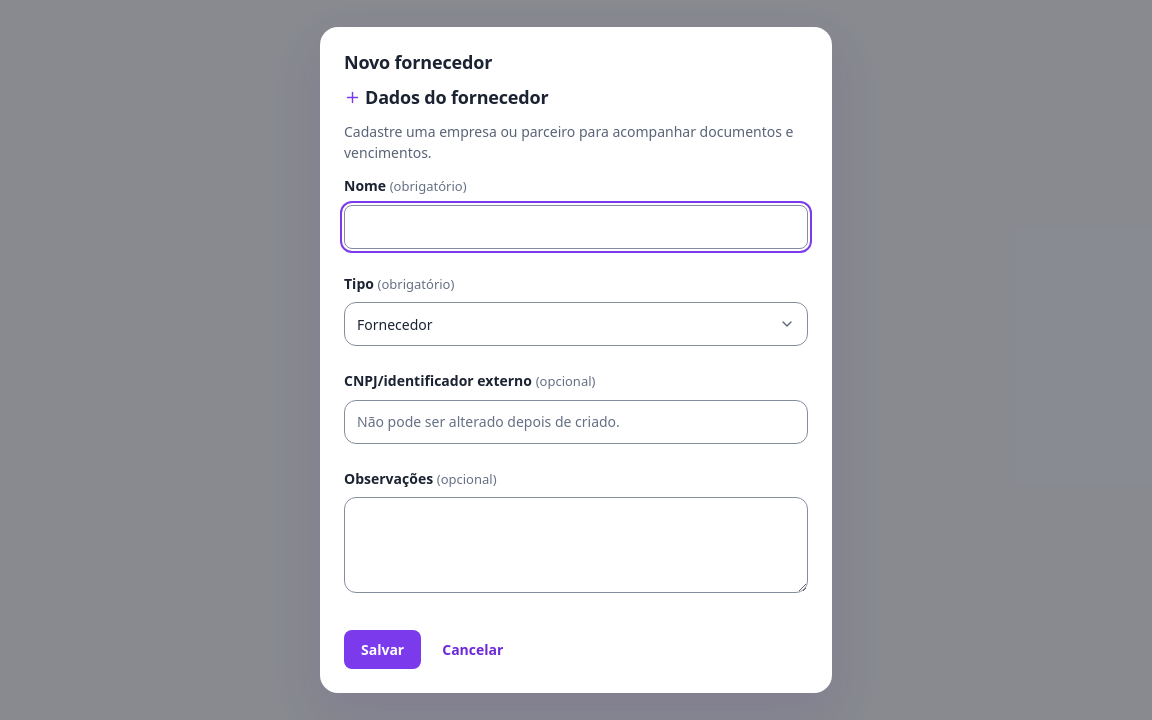
SubjectFormDialog › create: a duplicate external-id CONFLICT from the backend is surfaced verbatim, never silently swallowed
Expected: the dialog "Novo fornecedor" is shown, [320,27,832,693]
Type "Nova Empresa" into the field labelled "Nome (obrigatório)" at [576, 227], box [344,205,808,249]
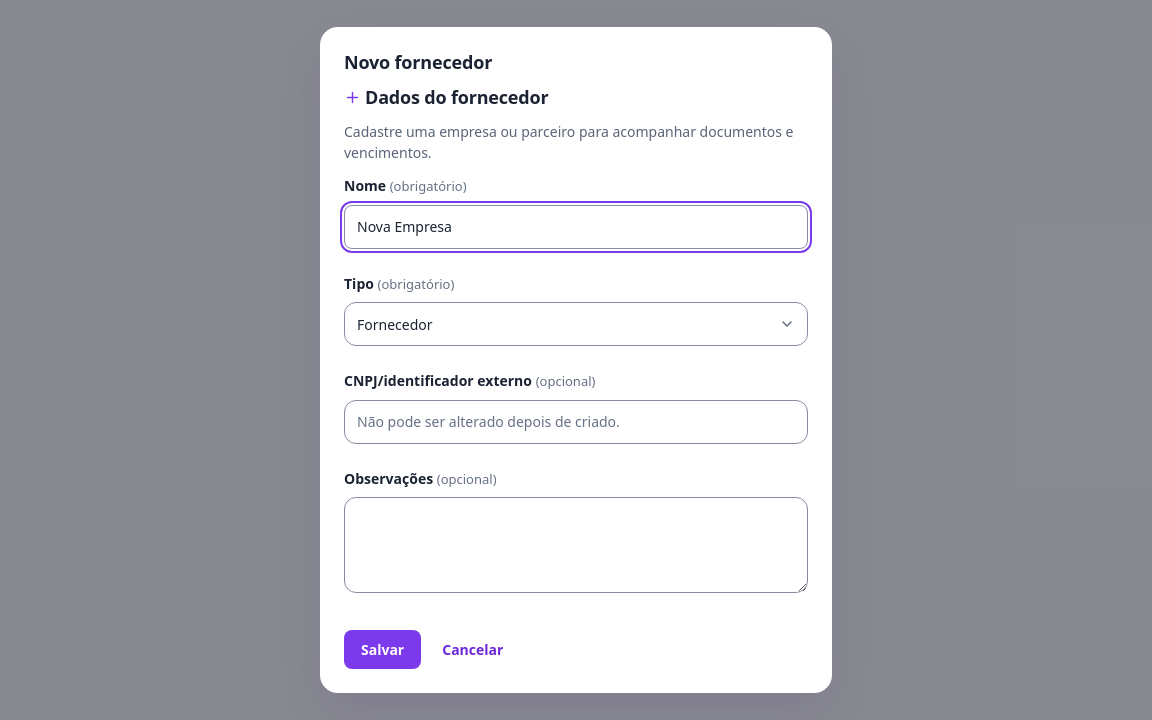
Click the button "Salvar" at [383, 650], box [344,630,421,669]
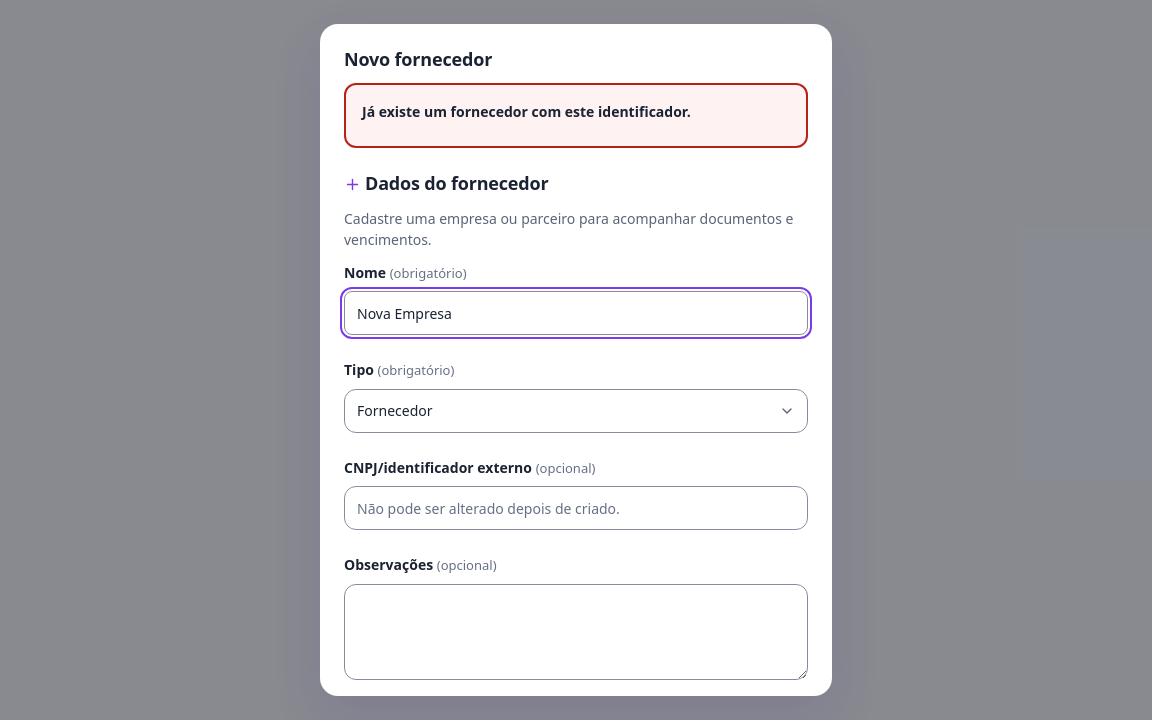
Result: the text "Já existe um fornecedor com este identificador." is shown at [362,102,691,121]
